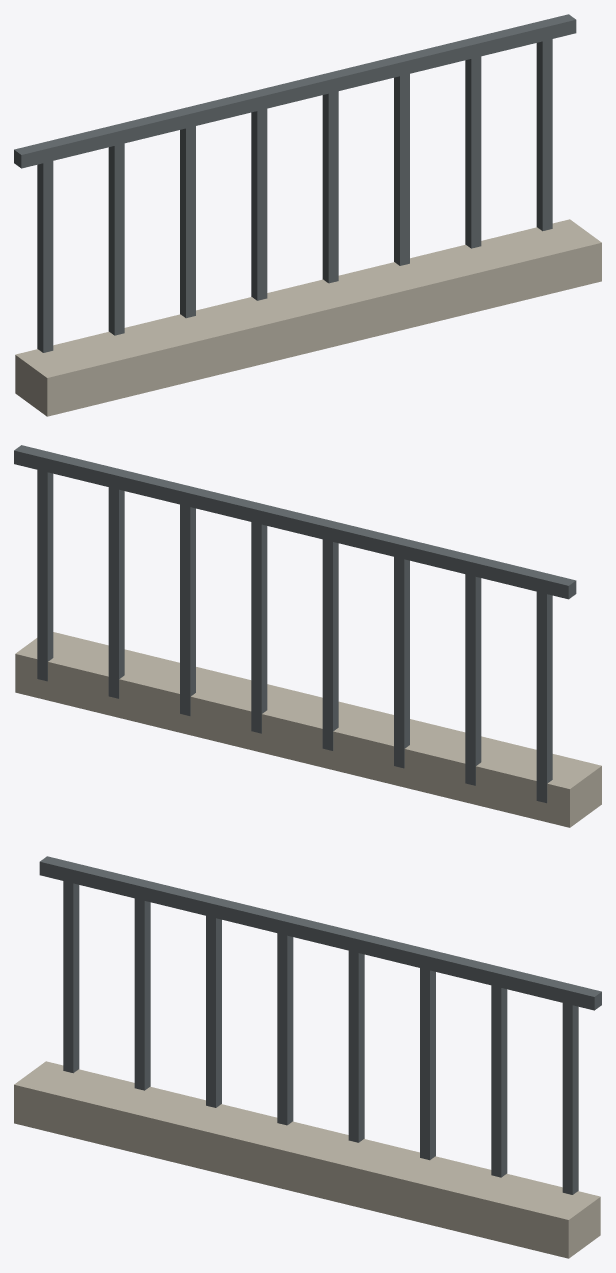
Rendered from iz3_neighborhood_balkon_dar.glb.
3 views of the same model, one above another, from view 1: azimuth 30°, elevation 25°; view 2: azimuth 150°, elevation 25°; view 3: azimuth 330°, elevation 25° (orthographic).
Visible parts, largest first — view 1: deck, baluster (×8), rail; view 2: deck, baluster (×8), rail; view 3: deck, baluster (×8), rail.
Part boxes in pixels (x1,y1,x2,y2): deck: (15, 219, 601, 416); baluster (×8): (37, 39, 552, 352); rail: (14, 14, 576, 168); deck: (15, 632, 601, 827); baluster (×8): (37, 470, 552, 803); rail: (14, 445, 576, 599); deck: (14, 1061, 600, 1258); baluster (×8): (63, 881, 578, 1194); rail: (39, 856, 601, 1010).
Bounding box in the file's own units: 3 × 1.25 × 0.311.
